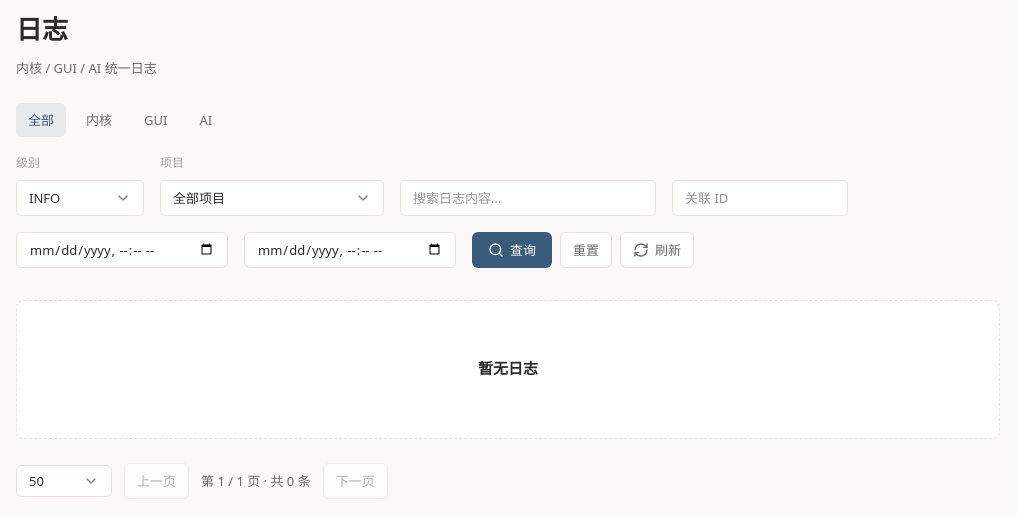
it: 日志页 — 项目选择（§6.2） › 【R】选回「全部项目」→ project_id 不传（回默认参数）
This screenshot has width=1017, height=516.
Click the dropdown with test id "log-project-select": (272, 198) x1=160 y1=180 x2=384 y2=216
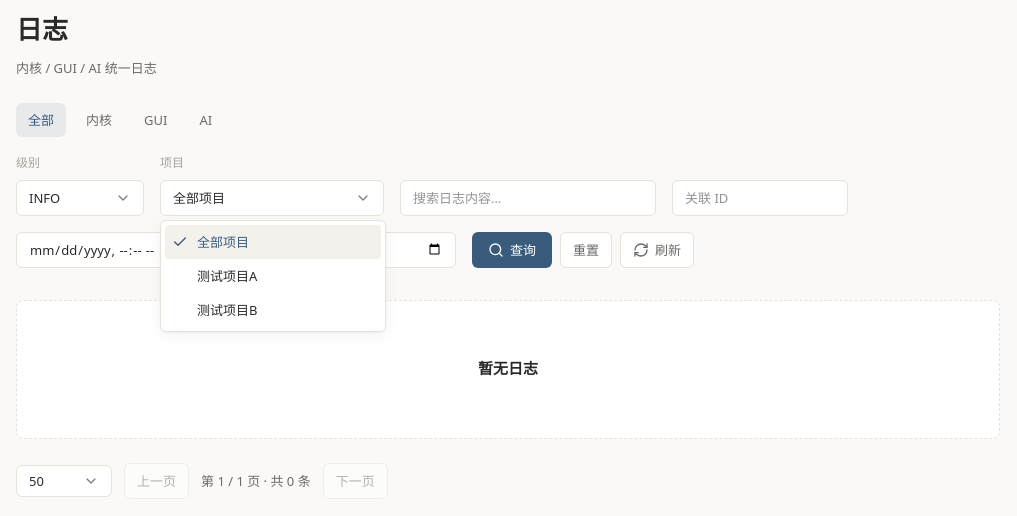
Click the option "测试项目A": (227, 276) x1=197 y1=267 x2=257 y2=285
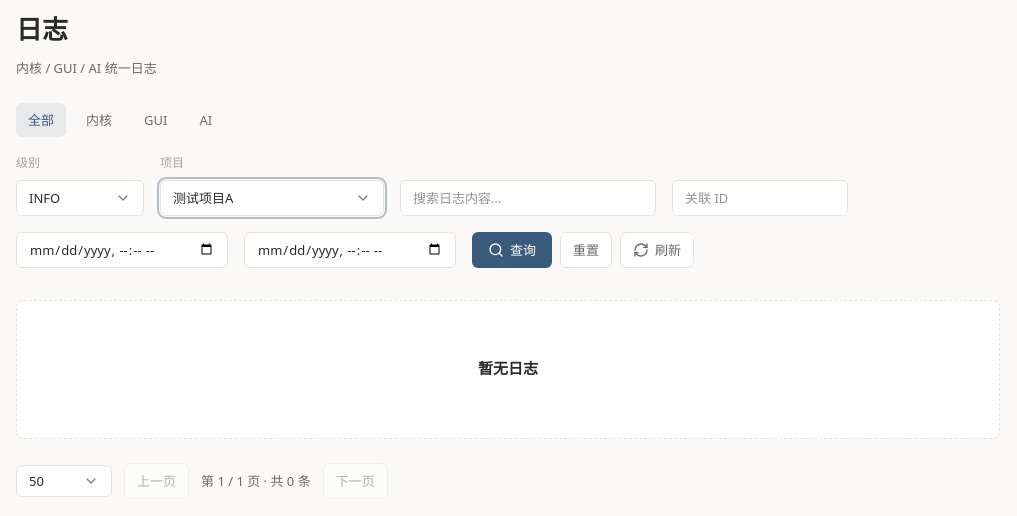
Click the dropdown with test id "log-project-select": (272, 198) x1=160 y1=180 x2=384 y2=216
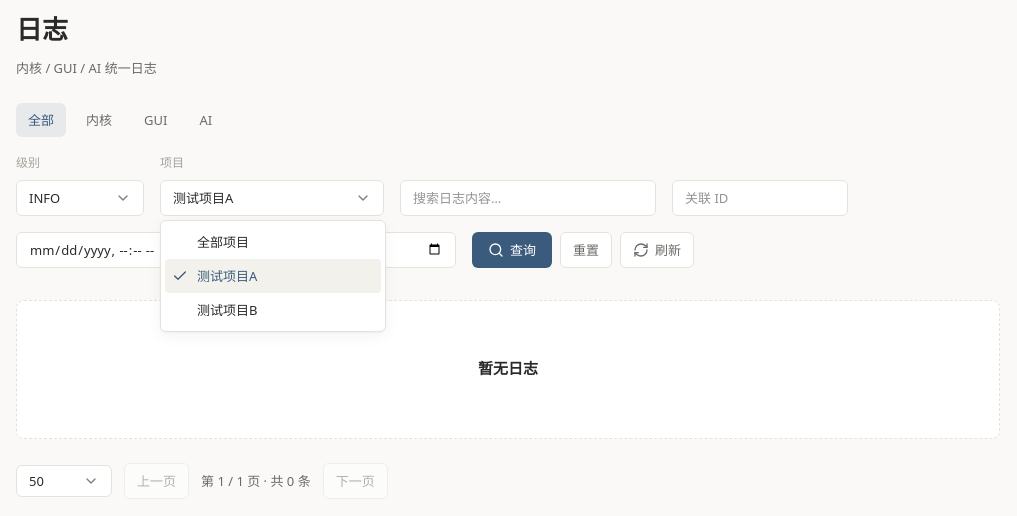
Click the option "全部项目": (223, 242) x1=197 y1=233 x2=249 y2=251
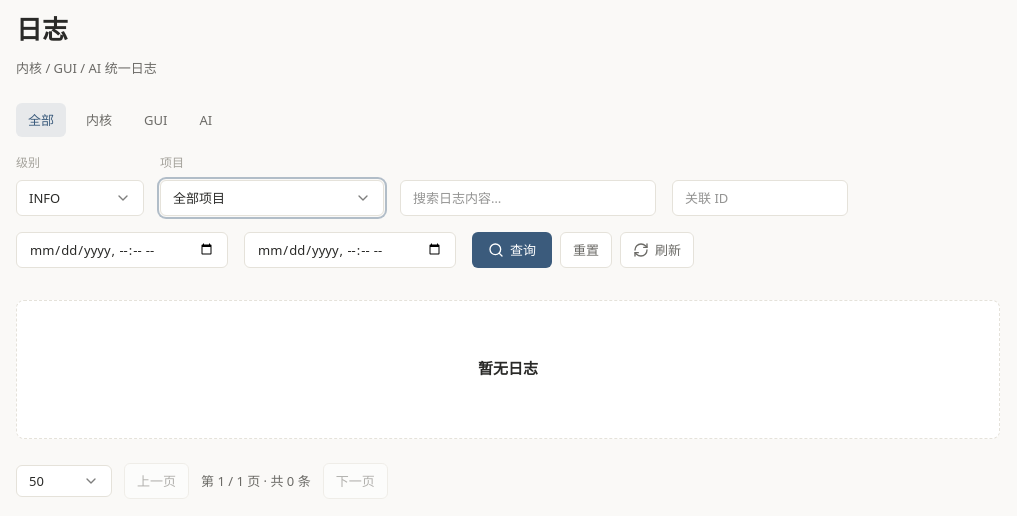
expect the dropdown with test id "log-project-select" reads "全部项目": met, box x1=160 y1=180 x2=384 y2=216
